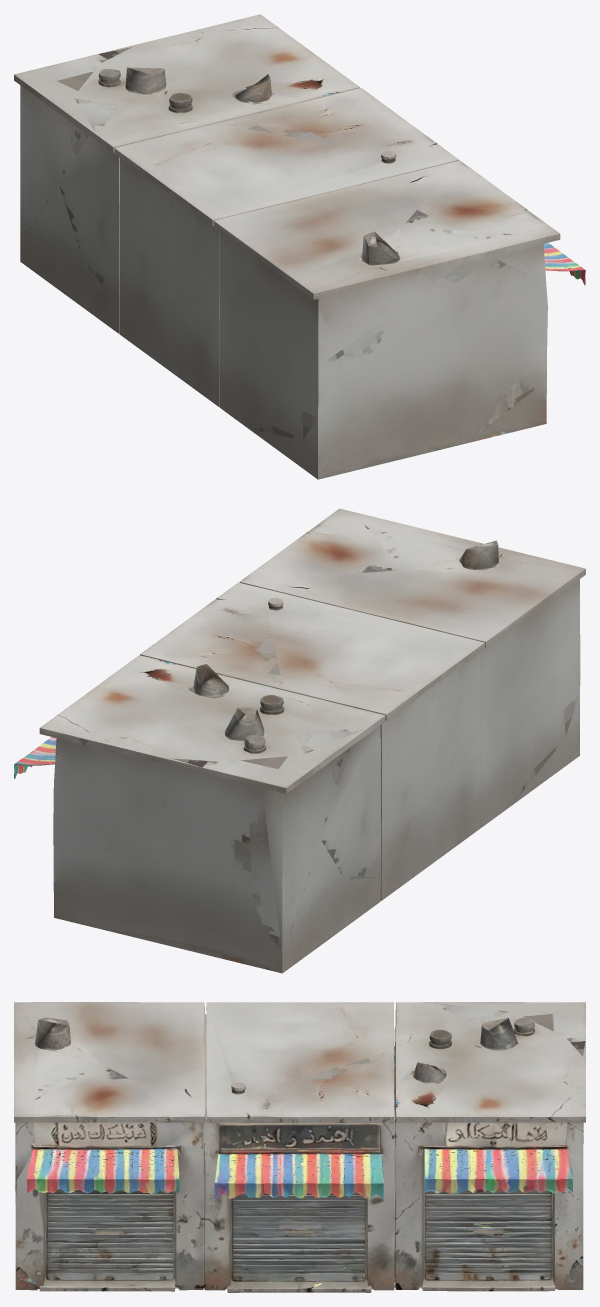
Rendered from shop_row.glb.
The picture shows the model from 3 angles, top to bottom: view 1: azimuth 30°, elevation 25°; view 2: azimuth 150°, elevation 25°; view 3: azimuth 270°, elevation 25°; orthographic projection. The views are drawn at different scales.
Parts seen in each view (by area): view 1: shop_row; view 2: shop_row; view 3: shop_row.
Boxes of the visible parts, box(x1,y1,x2,y2) form: shop_row: box(14, 14, 585, 479); shop_row: box(14, 508, 585, 973); shop_row: box(14, 1002, 585, 1292).
Size of the model in its own units: 6.45 by 4.57 by 12.
Materials: 1 (1 with a texture image).
